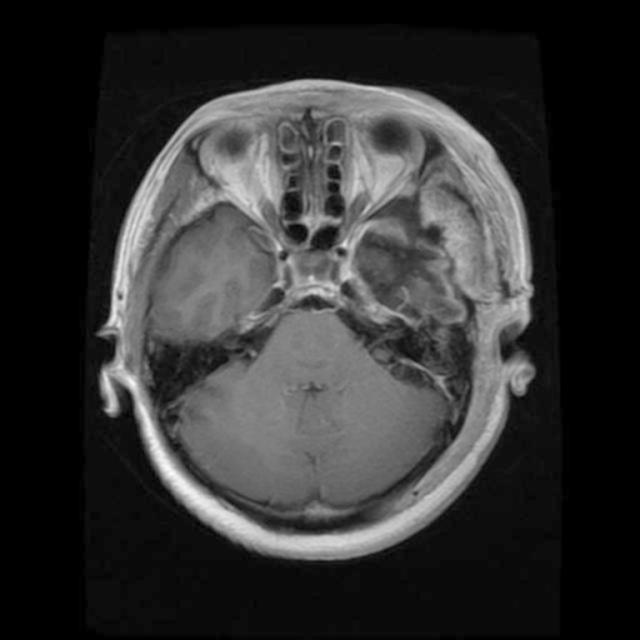pituitary tumor: (429, 171, 505, 291)
